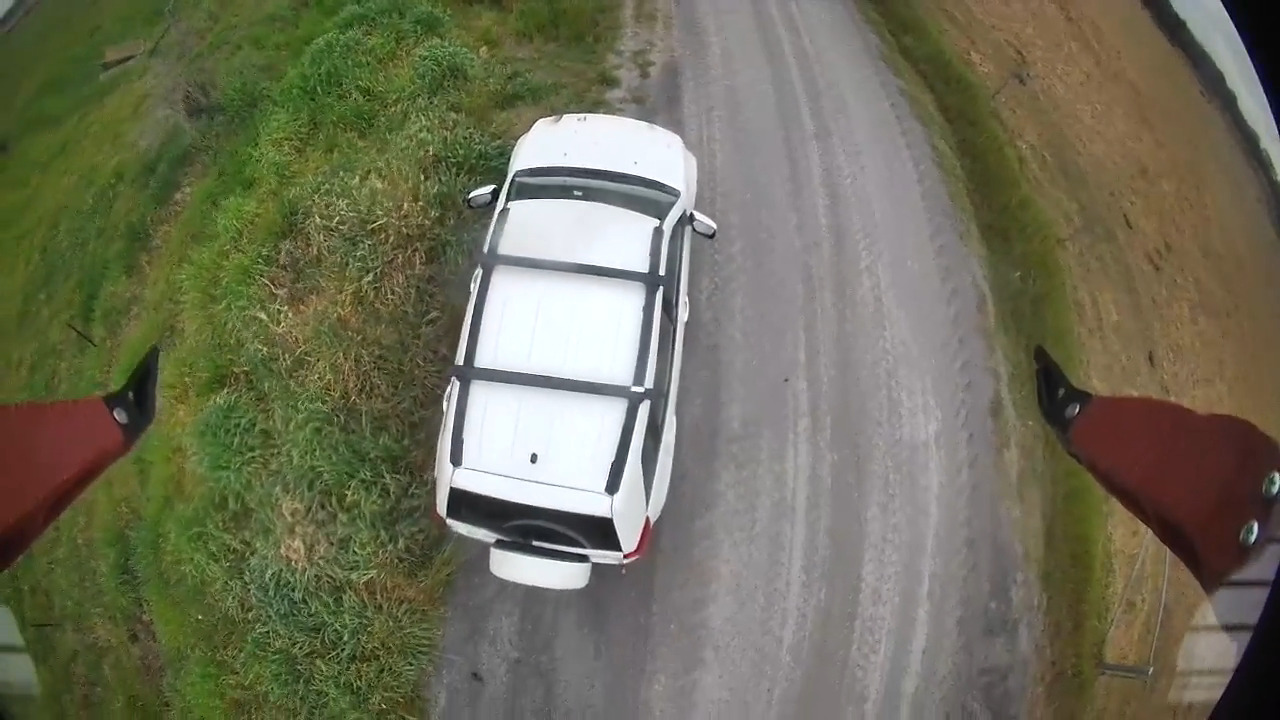Car: (434, 113, 716, 590)
